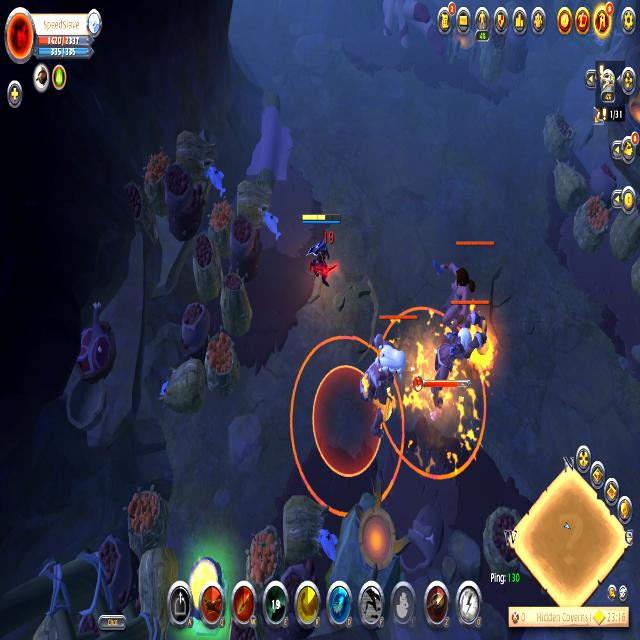fiber: (182, 547, 227, 626)
ore: (430, 232, 500, 343), (357, 311, 418, 435), (428, 296, 490, 407)
red: (301, 206, 347, 292)
silver: (288, 335, 407, 517), (380, 306, 488, 482)
